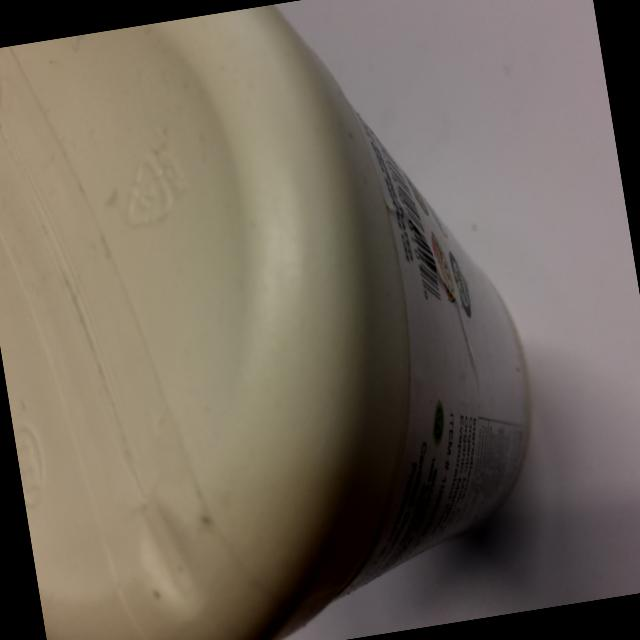Plastic: (0, 0, 586, 640)
